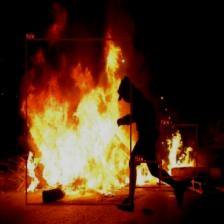fire: (25, 38, 131, 204), (160, 124, 198, 178), (134, 161, 160, 188)
